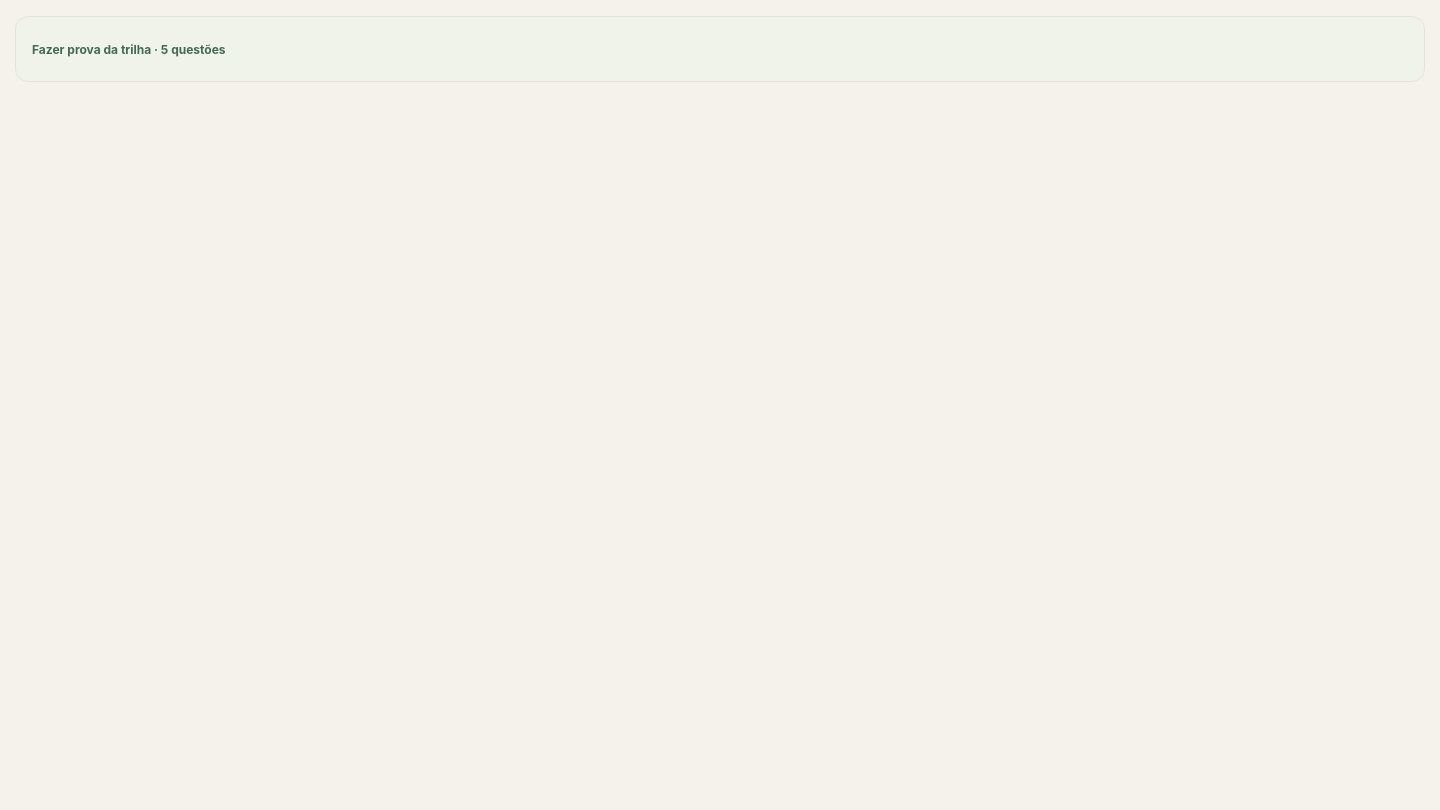
Test: KnowledgeAssessment › inicia prova de trilha fechada e permite expandir sem ocupar a tela
Click the heading "Fazer prova da trilha · 5 questões": (129, 49) [32,42,226,56]
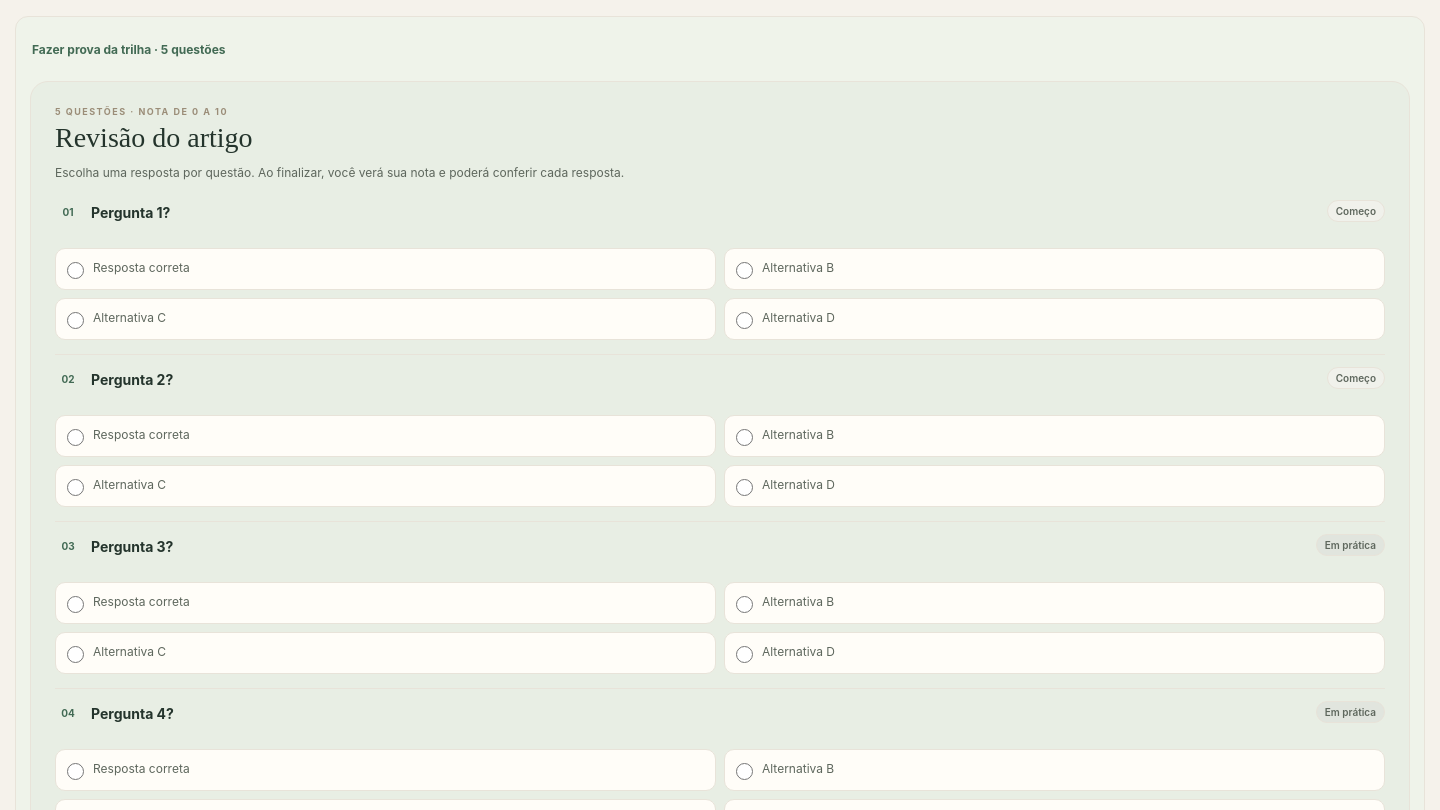
Check: the heading "Revisão do artigo" is shown, box [55,122,252,154]
